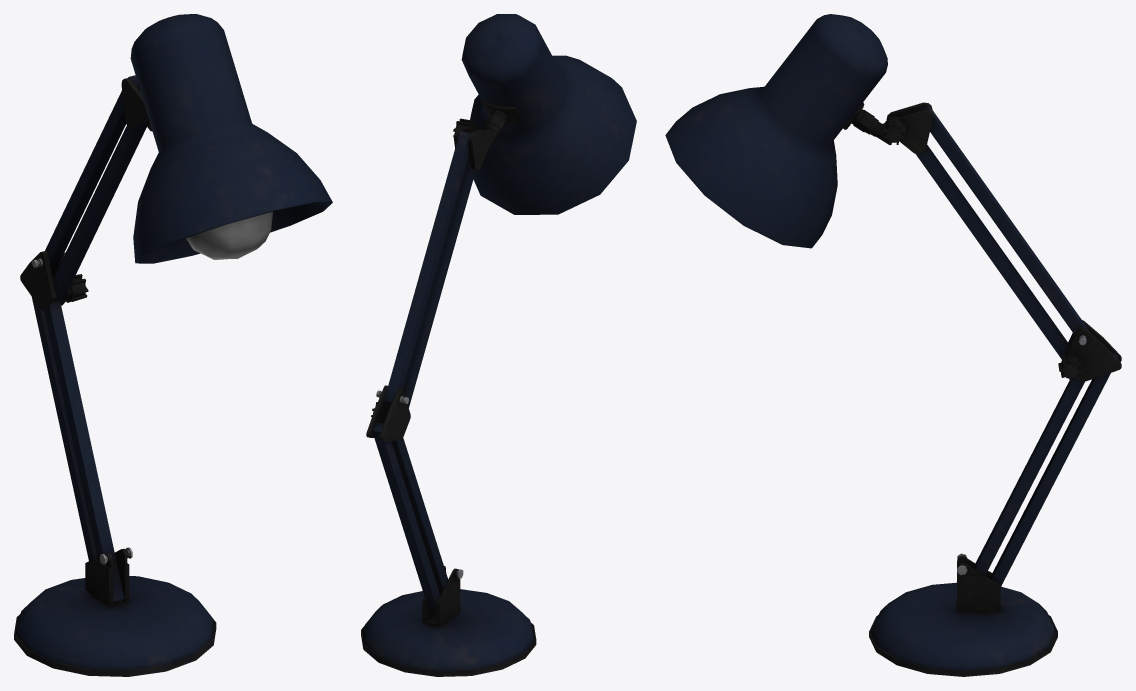
File: Desk_Lamp_02.fbx
3 renders of one model, left to right at view 1: azimuth 30°, elevation 25°; view 2: azimuth 150°, elevation 25°; view 3: azimuth 270°, elevation 25°, orthographic. The views are drawn at different scales.
Parts seen in each view (by area): view 1: Desk_Lamp; view 2: Desk_Lamp; view 3: Desk_Lamp.
Boxes of the visible parts, box(x1,y1,x2,y2) form: Desk_Lamp: box(14, 14, 332, 676); Desk_Lamp: box(361, 14, 636, 676); Desk_Lamp: box(665, 14, 1121, 676).
Size of the model in its own units: 15.83 by 56.29 by 37.67.
